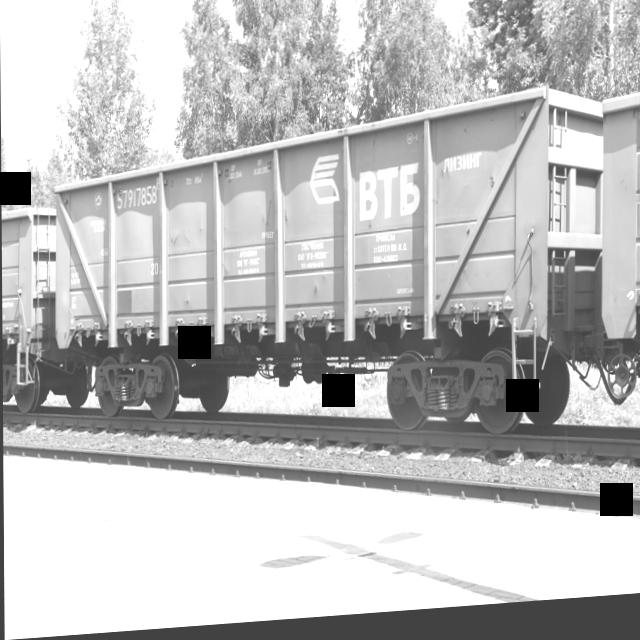gondola: (49, 83, 597, 473), (1, 187, 53, 417)
